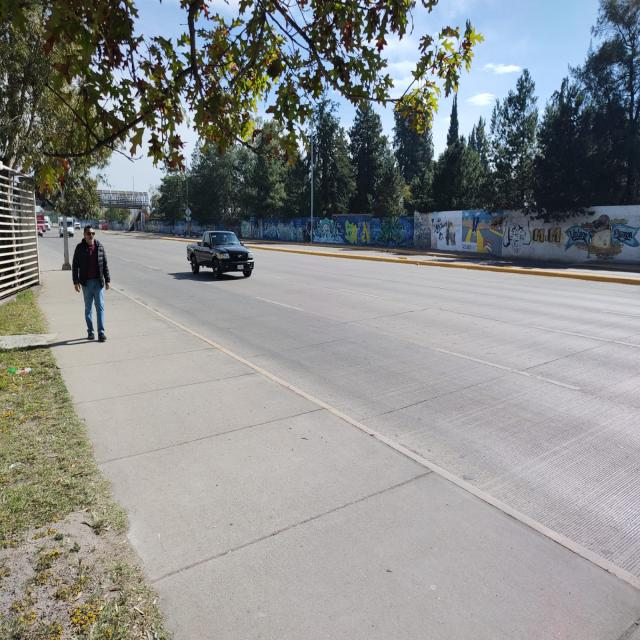Auto: (185, 230, 254, 276), (57, 216, 75, 239), (74, 221, 80, 231), (38, 227, 42, 237)
Autobus: (36, 214, 46, 232), (44, 214, 52, 232), (99, 219, 109, 231)
Peaton: (73, 226, 113, 342)
